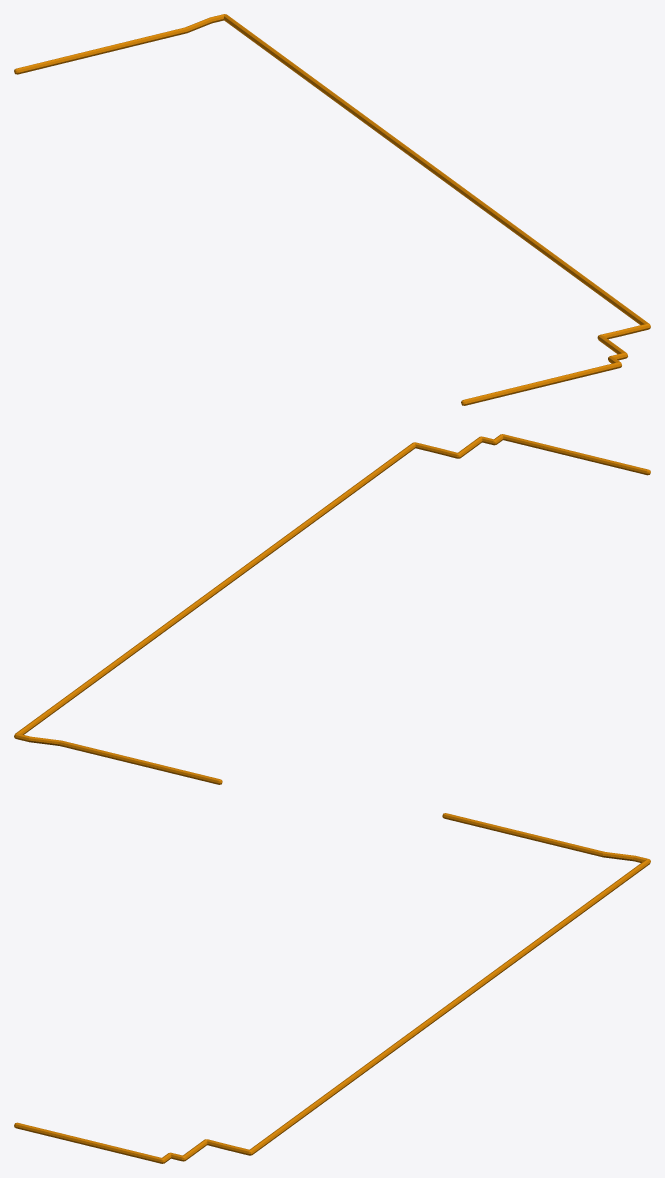
The picture shows the model from 3 angles, top to bottom: view 1: azimuth 30°, elevation 25°; view 2: azimuth 150°, elevation 25°; view 3: azimuth 330°, elevation 25°; orthographic projection. The views are drawn at different scales.
Bounding box in the file's own units: 786 × 20 × 2818.
